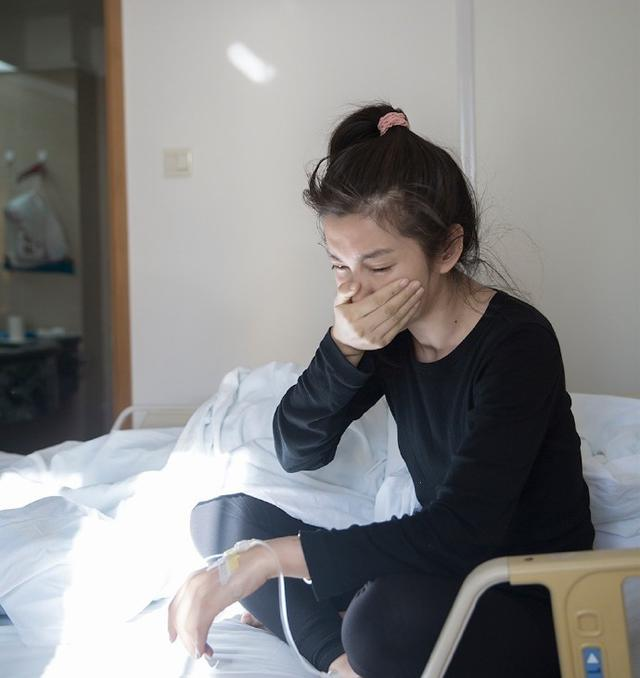face: (322, 196, 431, 345)
